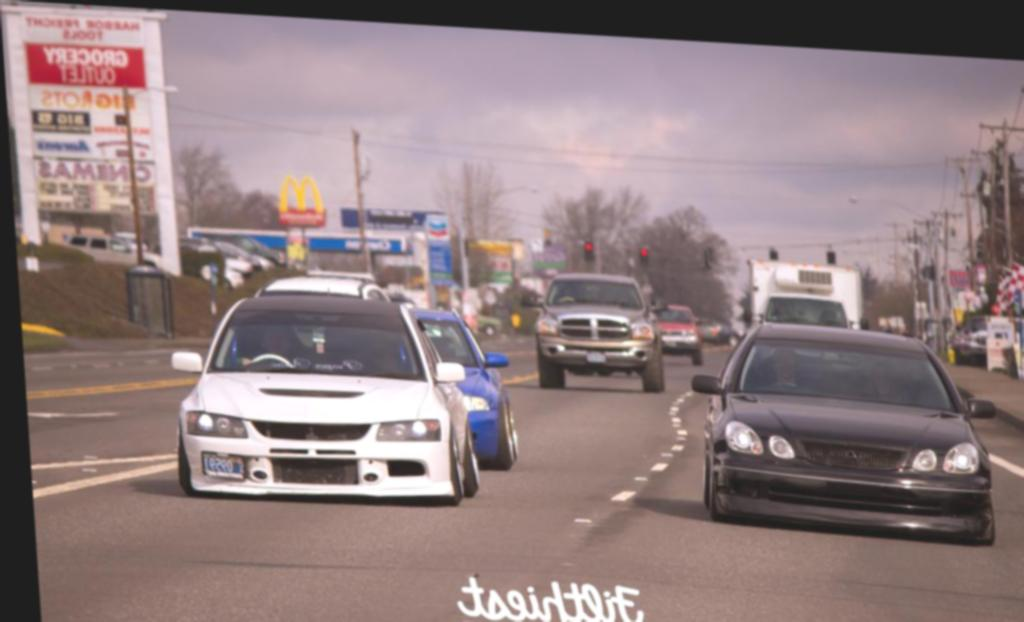License_Plate: (201, 455, 245, 480), (587, 348, 607, 361)
